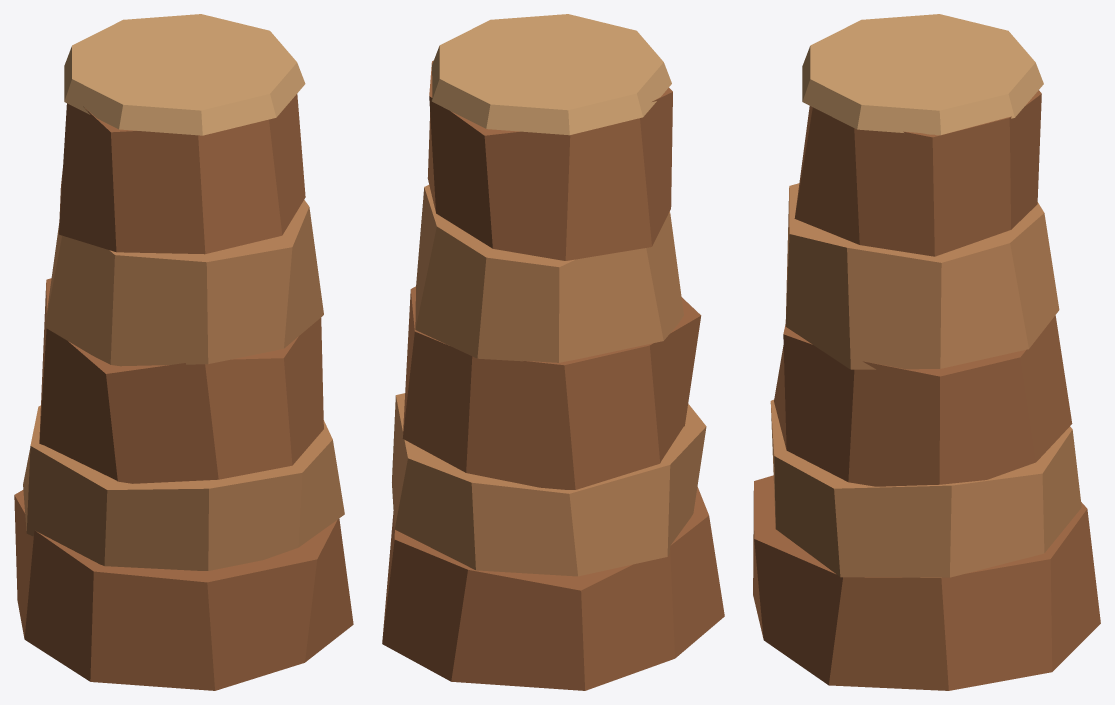
File: Canyon_Pillar0.fbx
3 renders of one model, left to right at view 1: azimuth 30°, elevation 25°; view 2: azimuth 150°, elevation 25°; view 3: azimuth 270°, elevation 25°, orthographic.
Parts seen in each view (by area): view 1: Canyon_Pillar0; view 2: Canyon_Pillar0; view 3: Canyon_Pillar0.
Part boxes in pixels (bbox=[...]): Canyon_Pillar0: bbox=[14, 14, 353, 690]; Canyon_Pillar0: bbox=[382, 14, 724, 690]; Canyon_Pillar0: bbox=[753, 14, 1100, 690].
Size of the model in its own units: 3.46 by 6.47 by 3.64.
